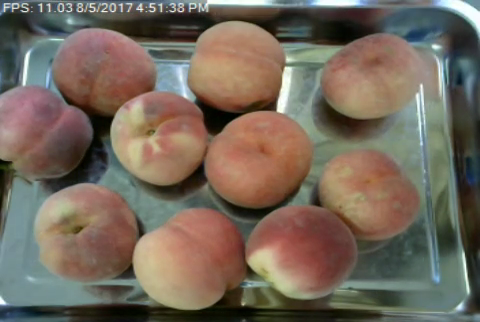Peach: (135, 206, 244, 311), (244, 203, 357, 301), (34, 182, 140, 282), (204, 109, 310, 208), (318, 30, 429, 122), (108, 89, 207, 186), (316, 148, 420, 240), (50, 27, 158, 114), (187, 20, 285, 111)
